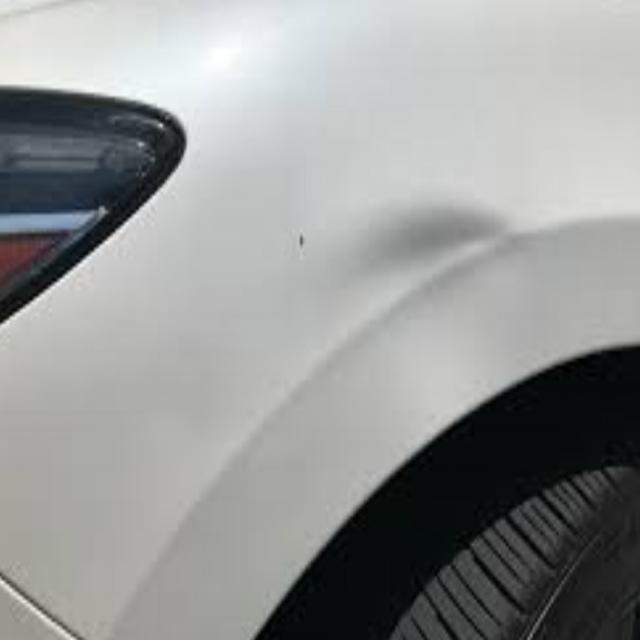dents: (315, 179, 537, 356)
